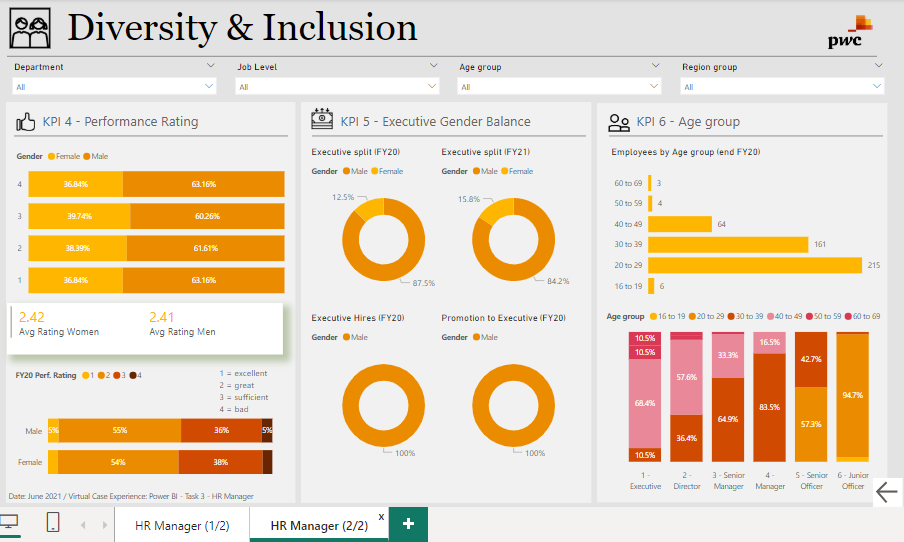

Layout of this report page (visuals, bound fields, positions):
{"tool":"powerbi","page":{"name":"HR Manager (2/2)","canvas":[1280,720],"ordinal":1},"visuals":[{"type":"basicShape","box":[3.9,139.9,418.6,579.7],"z":0},{"type":"slicer","fields":{"Values":["HR Manager.Job Level after FY20 promotions"]},"box":[322.5,83.9,310,55.9],"z":1000},{"type":"slicer","fields":{"Values":["HR Manager.Age group"]},"box":[638.2,83.9,310,55.9],"z":2000},{"type":"textbox","box":[88.7,4.8,1172.9,75.2],"z":3000},{"type":"basicShape","box":[0,60.8,1253,40.5],"z":4000},{"type":"basicShape","box":[422.2,139.6,420,579.7],"z":5000},{"type":"basicShape","box":[9.5,174.9,408,39.5],"z":6000},{"type":"textbox","box":[54.6,154.4,315.4,35.7],"z":7000},{"type":"multiRowCard","fields":{"Values":["HR Manager.Avg Rating Women","HR Manager.Avg Rating Men"]},"box":[10.1,431.1,390.9,72.6],"z":8000},{"type":"hundredPercentStackedBarChart","fields":{"Series":["HR Manager.FY20 Performance Rating"],"Category":["HR Manager.Gender"],"Y":["CountNonNull(HR Manager.Employee ID)"]},"box":[16.8,513.8,374.2,205.5],"z":9000},{"type":"image","box":[854.5,413.3,6.7,35.7],"z":10000},{"type":"image","box":[1129,0,151,94.5],"z":11000},{"type":"image","box":[8.7,0,67.5,81],"z":12000},{"type":"basicShape","box":[842.2,141.8,420,577.5],"z":13000},{"type":"image","box":[19,156.4,35.7,35.7],"z":14000},{"type":"slicer","fields":{"Values":["HR Manager.Last Department in FY20"]},"box":[6.8,83.9,310,55.9],"z":15000},{"type":"slicer","fields":{"Values":["HR Manager.Broad region group: nationality 1"]},"box":[954,83.9,310,55.9],"z":16000},{"type":"textbox","box":[477.9,154.4,315.4,35.7],"z":17000},{"type":"basicShape","box":[432.8,174.9,408,39.5],"z":18000},{"type":"textbox","box":[897.8,154.4,315.4,35.7],"z":19000},{"type":"basicShape","box":[852.7,174.9,408,39.5],"z":20000},{"type":"hundredPercentStackedBarChart","fields":{"Category":["HR Manager.FY20 Performance Rating"],"Series":["HR Manager.Gender"],"Y":["Count(HR Manager.Employee ID)"]},"box":[19,204.4,389.8,225.6],"z":21000},{"type":"textbox","box":[306,516,100.5,81.5],"z":22000},{"type":"donutChart","title":"Executive split (FY21)","fields":{"Category":["HR Manager.Gender"],"Y":["CountNonNull(HR Manager.Employee ID)"]},"box":[621.1,209.9,214.5,220],"z":23000},{"type":"donutChart","title":"Executive split (FY20)","fields":{"Category":["HR Manager.Gender"],"Y":["CountNonNull(HR Manager.Employee ID)"]},"box":[436.8,209.9,214.5,220],"z":24000},{"type":"donutChart","title":"Executive Hires (FY20)","fields":{"Category":["HR Manager.Gender"],"Y":["CountNonNull(HR Manager.Employee ID)"]},"box":[436.7,444.7,214.5,220],"z":25000},{"type":"donutChart","title":"Promotion to Executive (FY20)","fields":{"Category":["HR Manager.Gender"],"Y":["CountNonNull(HR Manager.Employee ID)"]},"box":[621,444.7,214.5,220],"z":26000},{"type":"image","box":[857.8,153,40.2,44.7],"z":27000},{"type":"clusteredBarChart","title":"Employees by Age group (end FY20)","fields":{"Category":["HR Manager.Age group"],"Y":["CountNonNull(HR Manager.Employee ID)"]},"box":[861.2,210,392,225.6],"z":28000},{"type":"hundredPercentStackedColumnChart","fields":{"Category":["HR Manager.Job Level after FY21 promotions"],"Series":["HR Manager.Age group"],"Y":["CountNonNull(HR Manager.Employee ID)"]},"box":[854.5,431.1,406.6,273.6],"z":29000},{"type":"image","box":[436.7,147.4,40.2,44.7],"z":30000},{"type":"actionButton","box":[1237.6,679.1,42.4,40.5],"z":31000},{"type":"textbox","box":[7.7,689.7,397.4,29.9],"z":32000}]}

Visuals, with their boxes on the page's 1280x720 design canvas (x1, y1, x2, y2). These are canvas units, not pixel positions in the 904x542 screenshot, which may show the page scaled, cropped or inside an application window:
basicShape: detection(4, 140, 422, 720)
slicer - HR Manager.Job Level after FY20 promotions: detection(322, 84, 632, 140)
slicer - HR Manager.Age group: detection(638, 84, 948, 140)
textbox: detection(89, 5, 1262, 80)
basicShape: detection(0, 61, 1253, 101)
basicShape: detection(422, 140, 842, 719)
basicShape: detection(10, 175, 418, 214)
textbox: detection(55, 154, 370, 190)
multiRowCard - HR Manager.Avg Rating Women x HR Manager.Avg Rating Men: detection(10, 431, 401, 504)
hundredPercentStackedBarChart - HR Manager.FY20 Performance Rating x HR Manager.Gender: detection(17, 514, 391, 719)
image: detection(854, 413, 861, 449)
image: detection(1129, 0, 1280, 94)
image: detection(9, 0, 76, 81)
basicShape: detection(842, 142, 1262, 719)
image: detection(19, 156, 55, 192)
slicer - HR Manager.Last Department in FY20: detection(7, 84, 317, 140)
slicer - HR Manager.Broad region group: nationality 1: detection(954, 84, 1264, 140)
textbox: detection(478, 154, 793, 190)
basicShape: detection(433, 175, 841, 214)
textbox: detection(898, 154, 1213, 190)
basicShape: detection(853, 175, 1261, 214)
hundredPercentStackedBarChart - HR Manager.FY20 Performance Rating x HR Manager.Gender: detection(19, 204, 409, 430)
textbox: detection(306, 516, 406, 598)
"Executive split (FY21)" donutChart: detection(621, 210, 836, 430)
"Executive split (FY20)" donutChart: detection(437, 210, 651, 430)
"Executive Hires (FY20)" donutChart: detection(437, 445, 651, 665)
"Promotion to Executive (FY20)" donutChart: detection(621, 445, 836, 665)
image: detection(858, 153, 898, 198)
"Employees by Age group (end FY20)" clusteredBarChart: detection(861, 210, 1253, 436)
hundredPercentStackedColumnChart - HR Manager.Job Level after FY21 promotions x HR Manager.Age group: detection(854, 431, 1261, 705)
image: detection(437, 147, 477, 192)
actionButton: detection(1238, 679, 1280, 720)
textbox: detection(8, 690, 405, 720)
